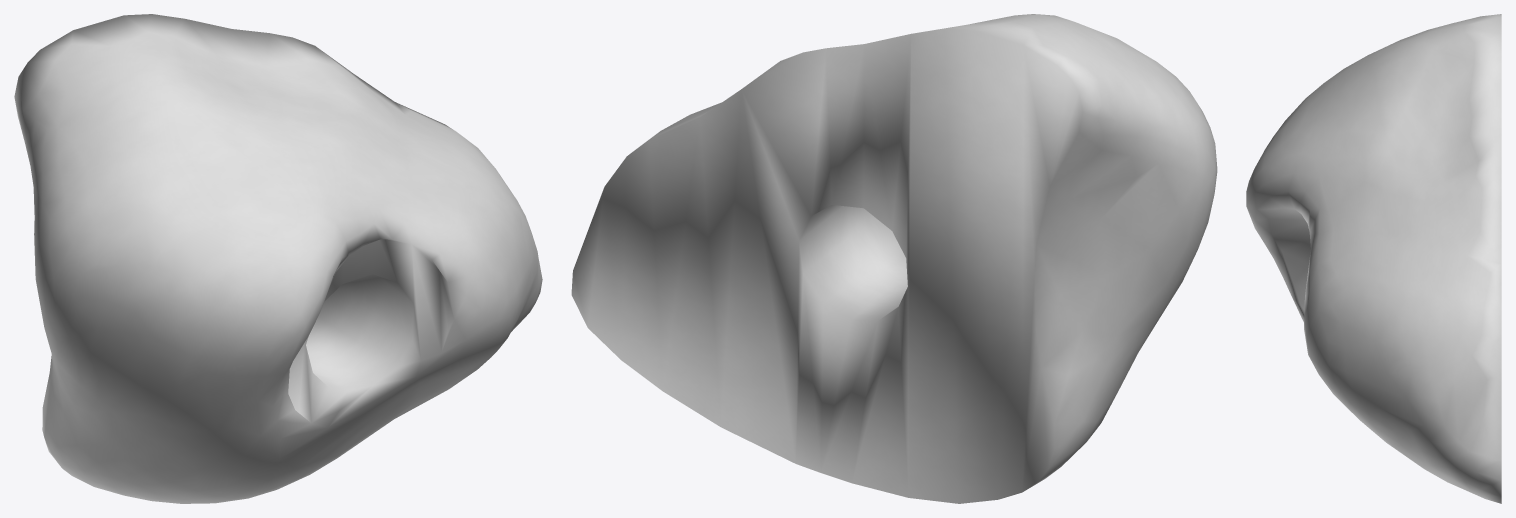
The model's file is Hold_4.glb.
3 renders of one model, left to right at view 1: azimuth 30°, elevation 25°; view 2: azimuth 150°, elevation 25°; view 3: azimuth 270°, elevation 25°, orthographic. The views are drawn at different scales.
Visible parts, largest first — view 1: bh_5x5_28; view 2: bh_5x5_28; view 3: bh_5x5_28.
Part boxes in pixels (<box>): bh_5x5_28: <box>14,14,542,503</box>; bh_5x5_28: <box>571,14,1217,503</box>; bh_5x5_28: <box>1246,14,1501,503</box>.
Size of the model in its own units: 0.188 by 0.155 by 0.0931.
1 material, 1 textured.
